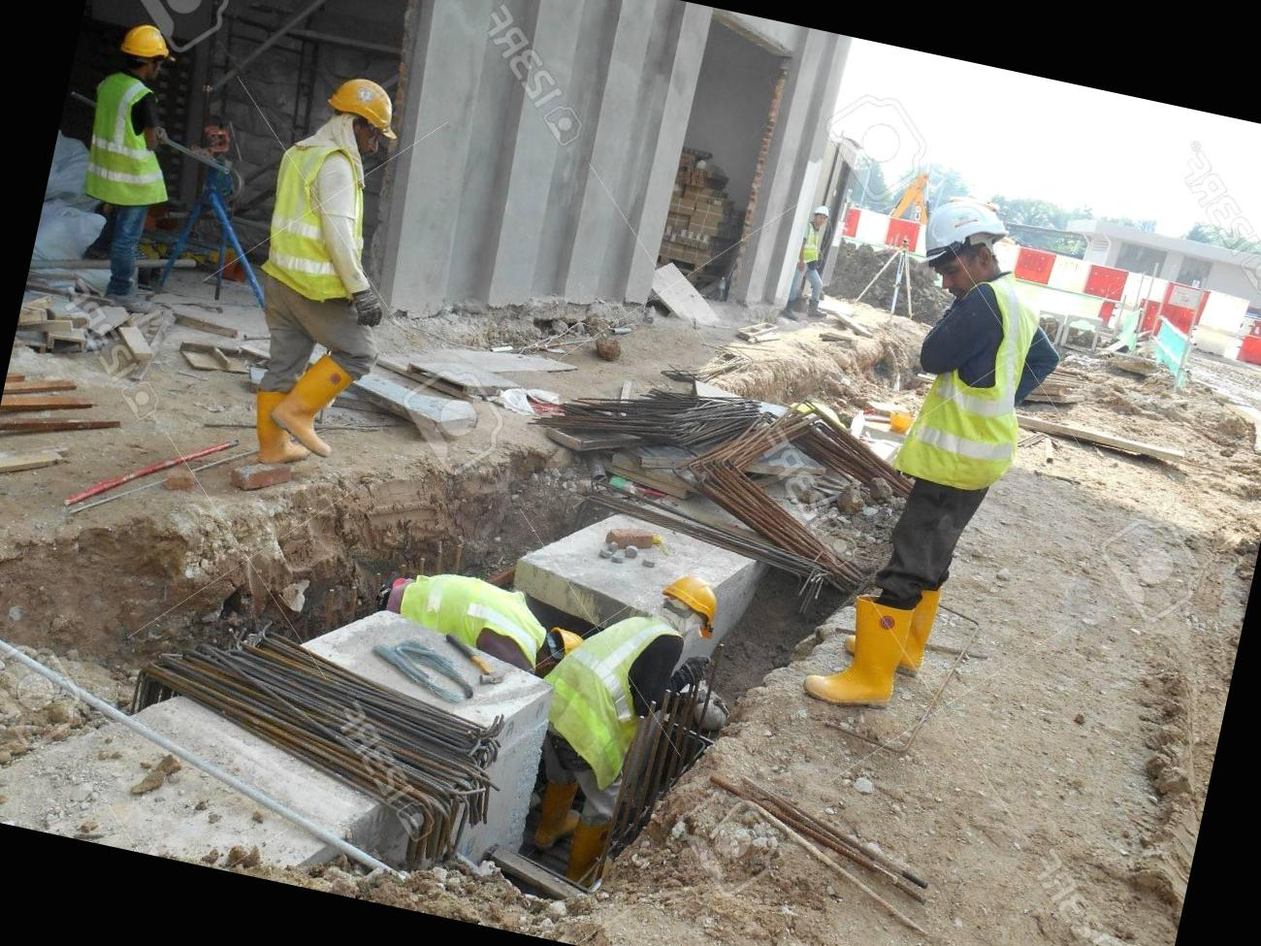helmet: (894, 179, 1017, 278), (304, 67, 407, 135), (116, 11, 177, 74)
person: (789, 178, 1068, 738), (209, 56, 444, 494), (48, 3, 207, 302)
